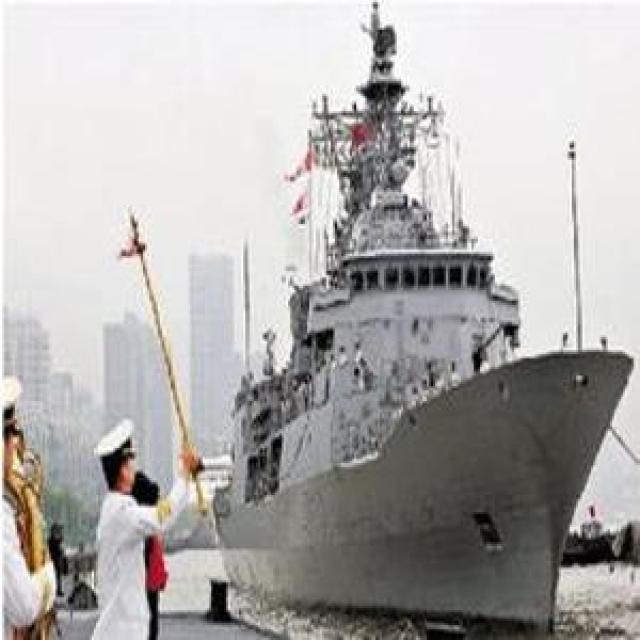navalvessels: (207, 13, 636, 620)
